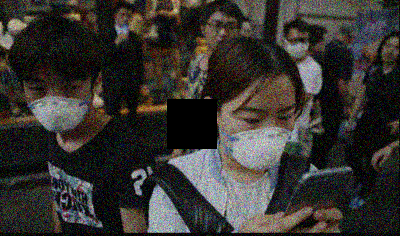with_mask: (217, 100, 295, 171), (24, 73, 90, 132), (284, 34, 310, 58)
without_mask: (204, 16, 238, 50), (381, 41, 398, 64), (112, 10, 132, 28)
